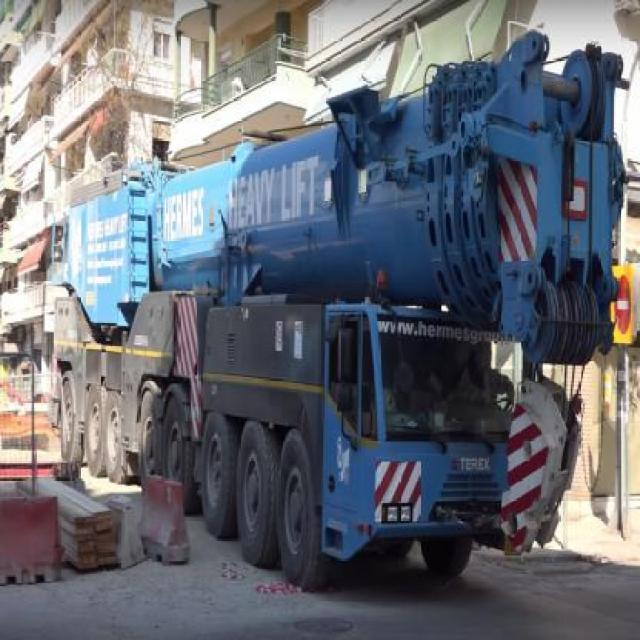Mobile Crane: (61, 34, 622, 594)
